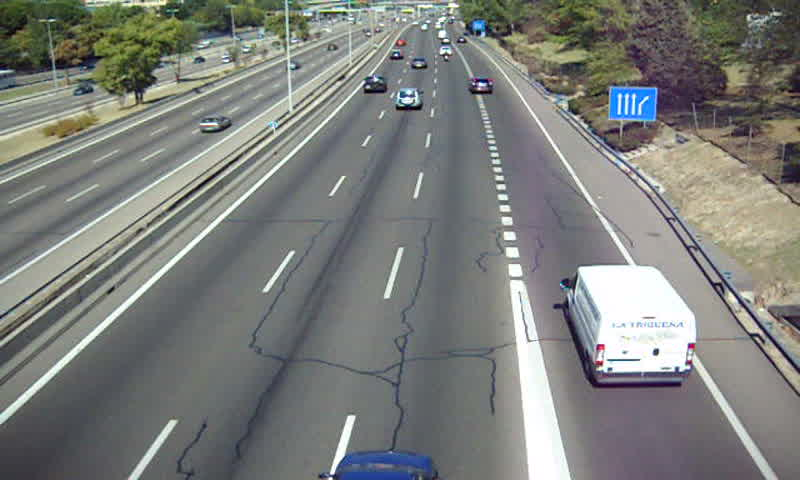car: (394, 89, 424, 111), (361, 76, 388, 95), (470, 77, 496, 96)
van: (559, 264, 702, 387)
